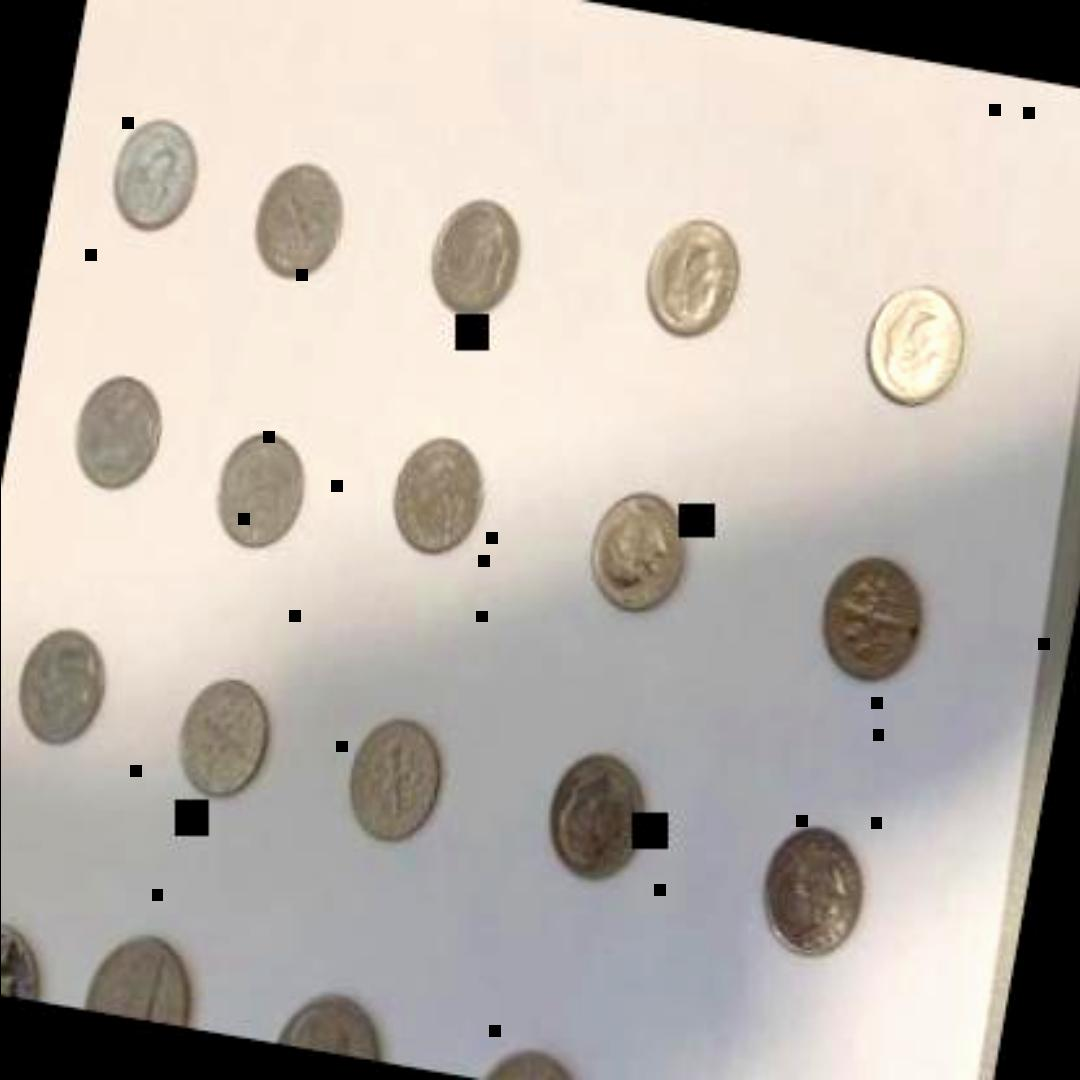Dime: (748, 805, 895, 973), (808, 535, 944, 703), (848, 265, 984, 425), (532, 731, 668, 889), (630, 201, 754, 346), (336, 703, 454, 853), (165, 658, 281, 808), (577, 482, 701, 622), (415, 186, 537, 326), (198, 421, 318, 561), (380, 422, 499, 562), (63, 362, 174, 500), (6, 616, 116, 752), (244, 151, 354, 286), (101, 107, 207, 239)
Nickel: (81, 922, 213, 1028), (275, 975, 407, 1063), (466, 1034, 620, 1080), (1, 906, 52, 1000)
